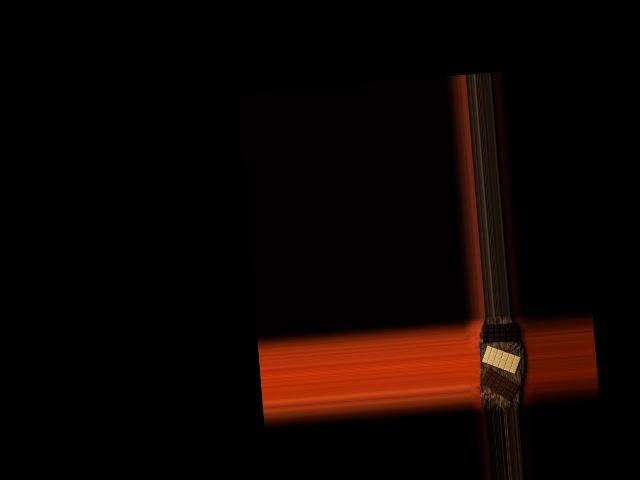chocolate: (481, 321, 520, 343)
